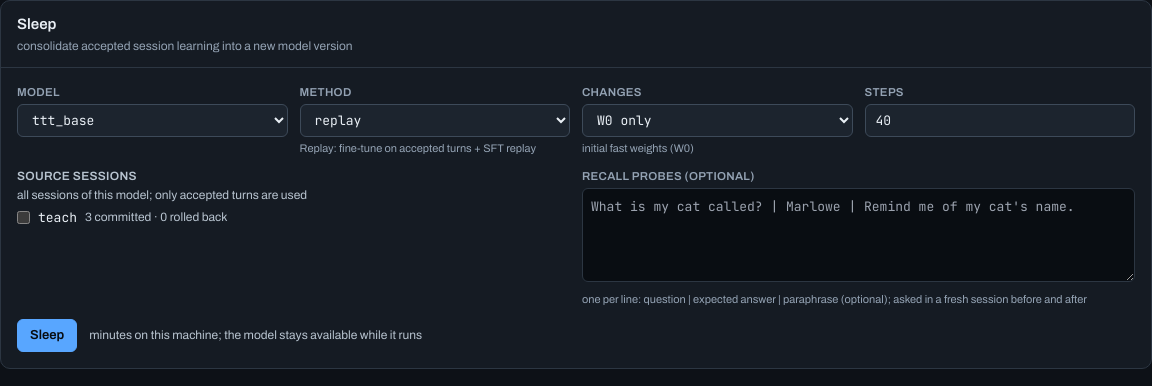
Scenario: sleep panel › rejects a malformed probe line before sending anything
This screenshot has width=1152, height=386.
Expected: the button "Sleep" is shown, [17,319,77,352]
Replace the text in the text box labelled "Recall probes (optional)" with "no separator here": (858, 235) [582,188,1135,282]
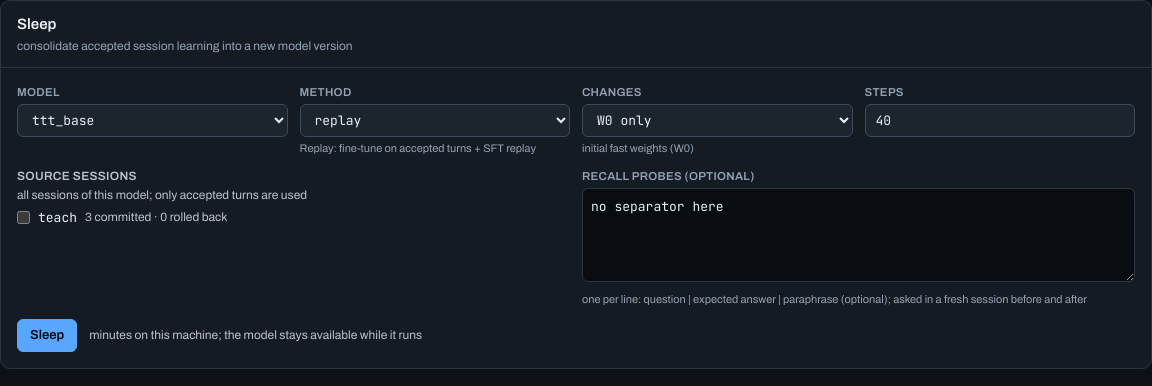
Click the button "Sleep": (47, 336) [17,319,77,352]
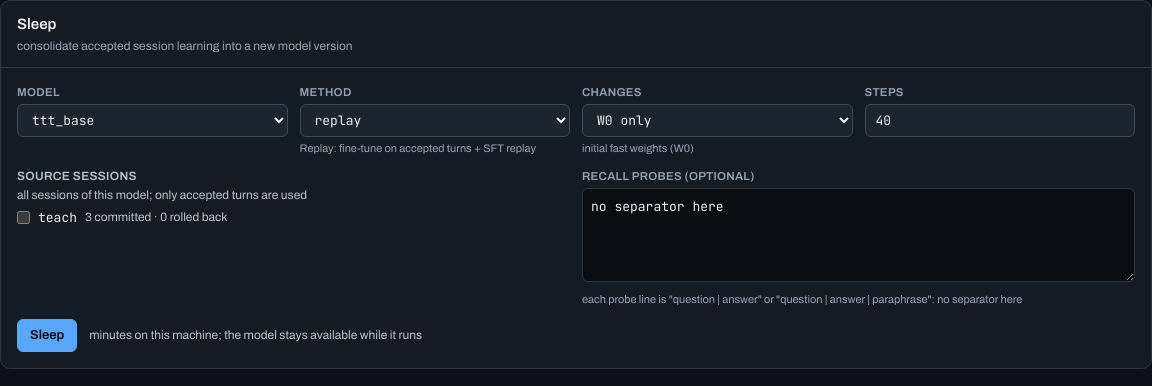
Now the text "each probe line is" is shown, box [582,293,1022,305]
